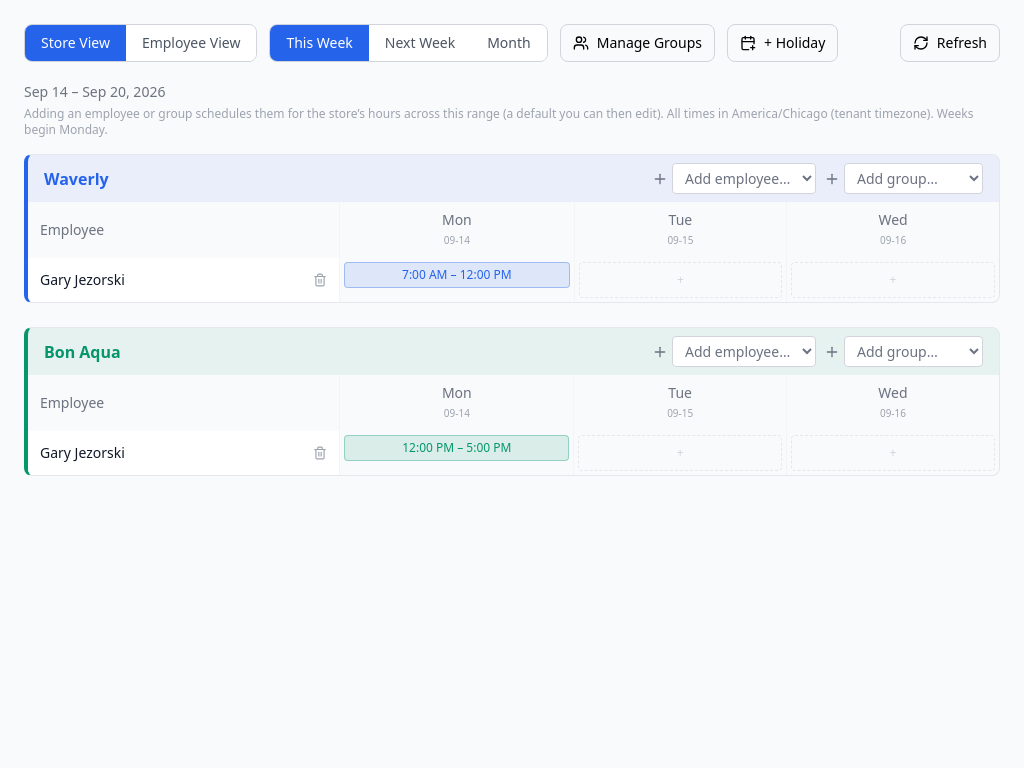
Test: Rapid scheduling › Add Employee schedules the person for the range (POST /assign) and reports the result
Note: Bo Vance is not yet in Waverly → offered in the Add-employee dropdown.
Select "Bo Vance" in the dropdown named "Add employee to Waverly": (744, 178) top-left (672, 163), bottom-right (816, 194)
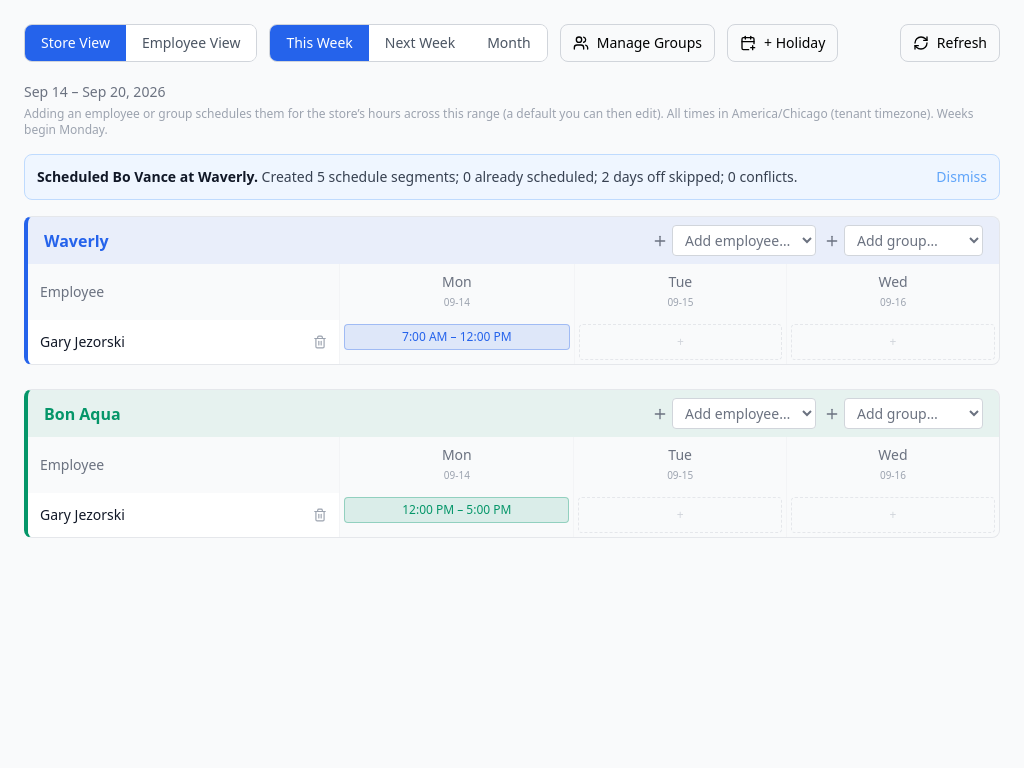
Expected: the text "2 days off skipped" is shown, top-left (262, 167), bottom-right (798, 186)
